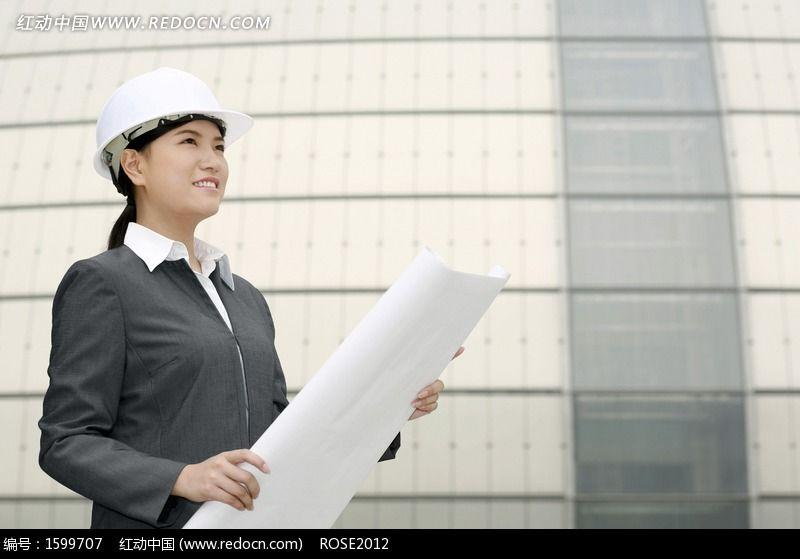helmet: (95, 67, 253, 180)
